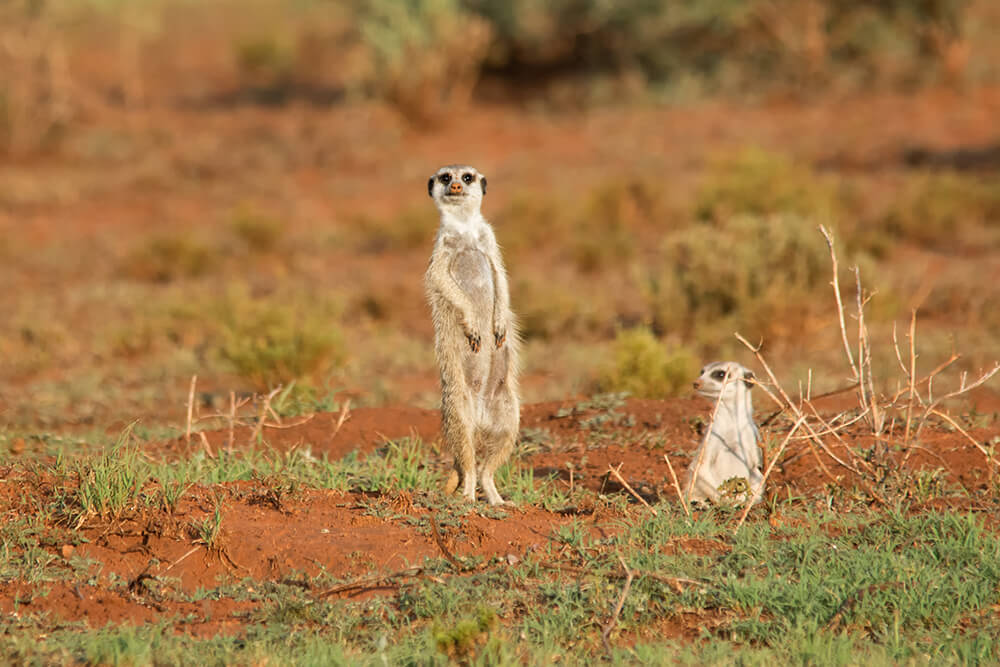meerkat: (399, 134, 586, 523), (664, 337, 799, 552)
